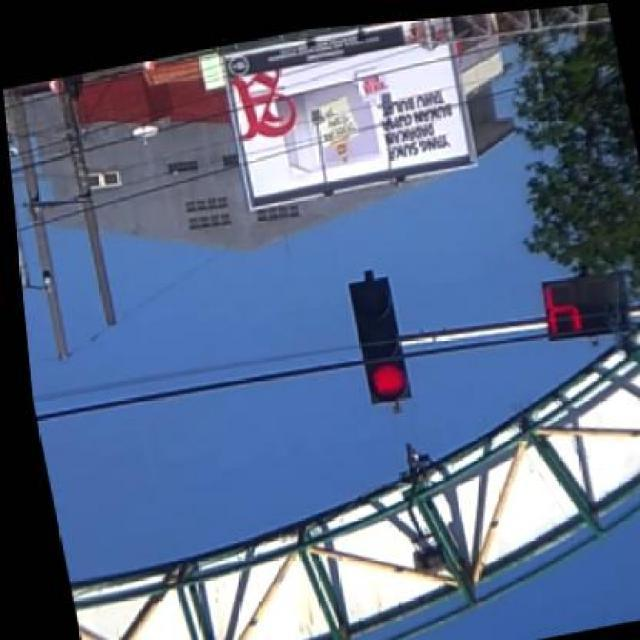red_light: (347, 269, 408, 400)
